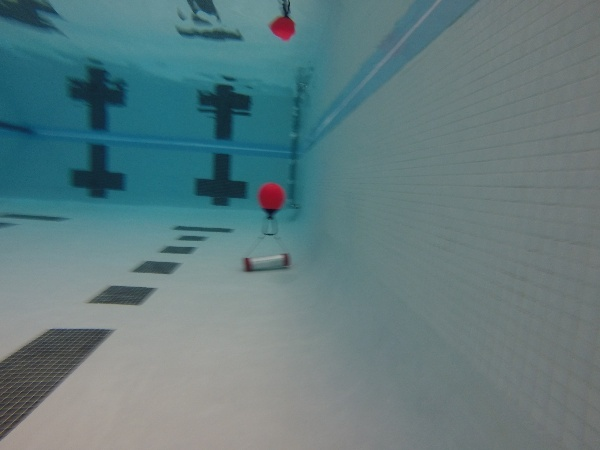buoy_red: (256, 181, 286, 224)
